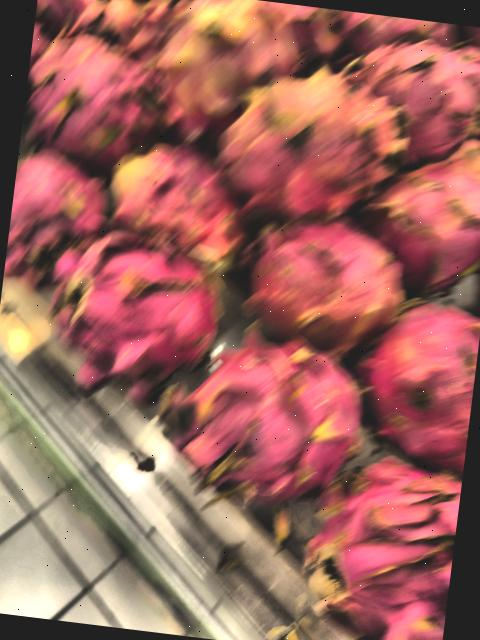buah-naga-belum-matang: (211, 68, 397, 215), (235, 214, 419, 357), (105, 150, 257, 266), (165, 0, 284, 121)
buah-naga-matang: (168, 319, 358, 492), (297, 449, 463, 640), (51, 232, 218, 388), (348, 307, 480, 455), (350, 40, 480, 179), (19, 36, 158, 162), (378, 150, 480, 295), (4, 149, 96, 281)
